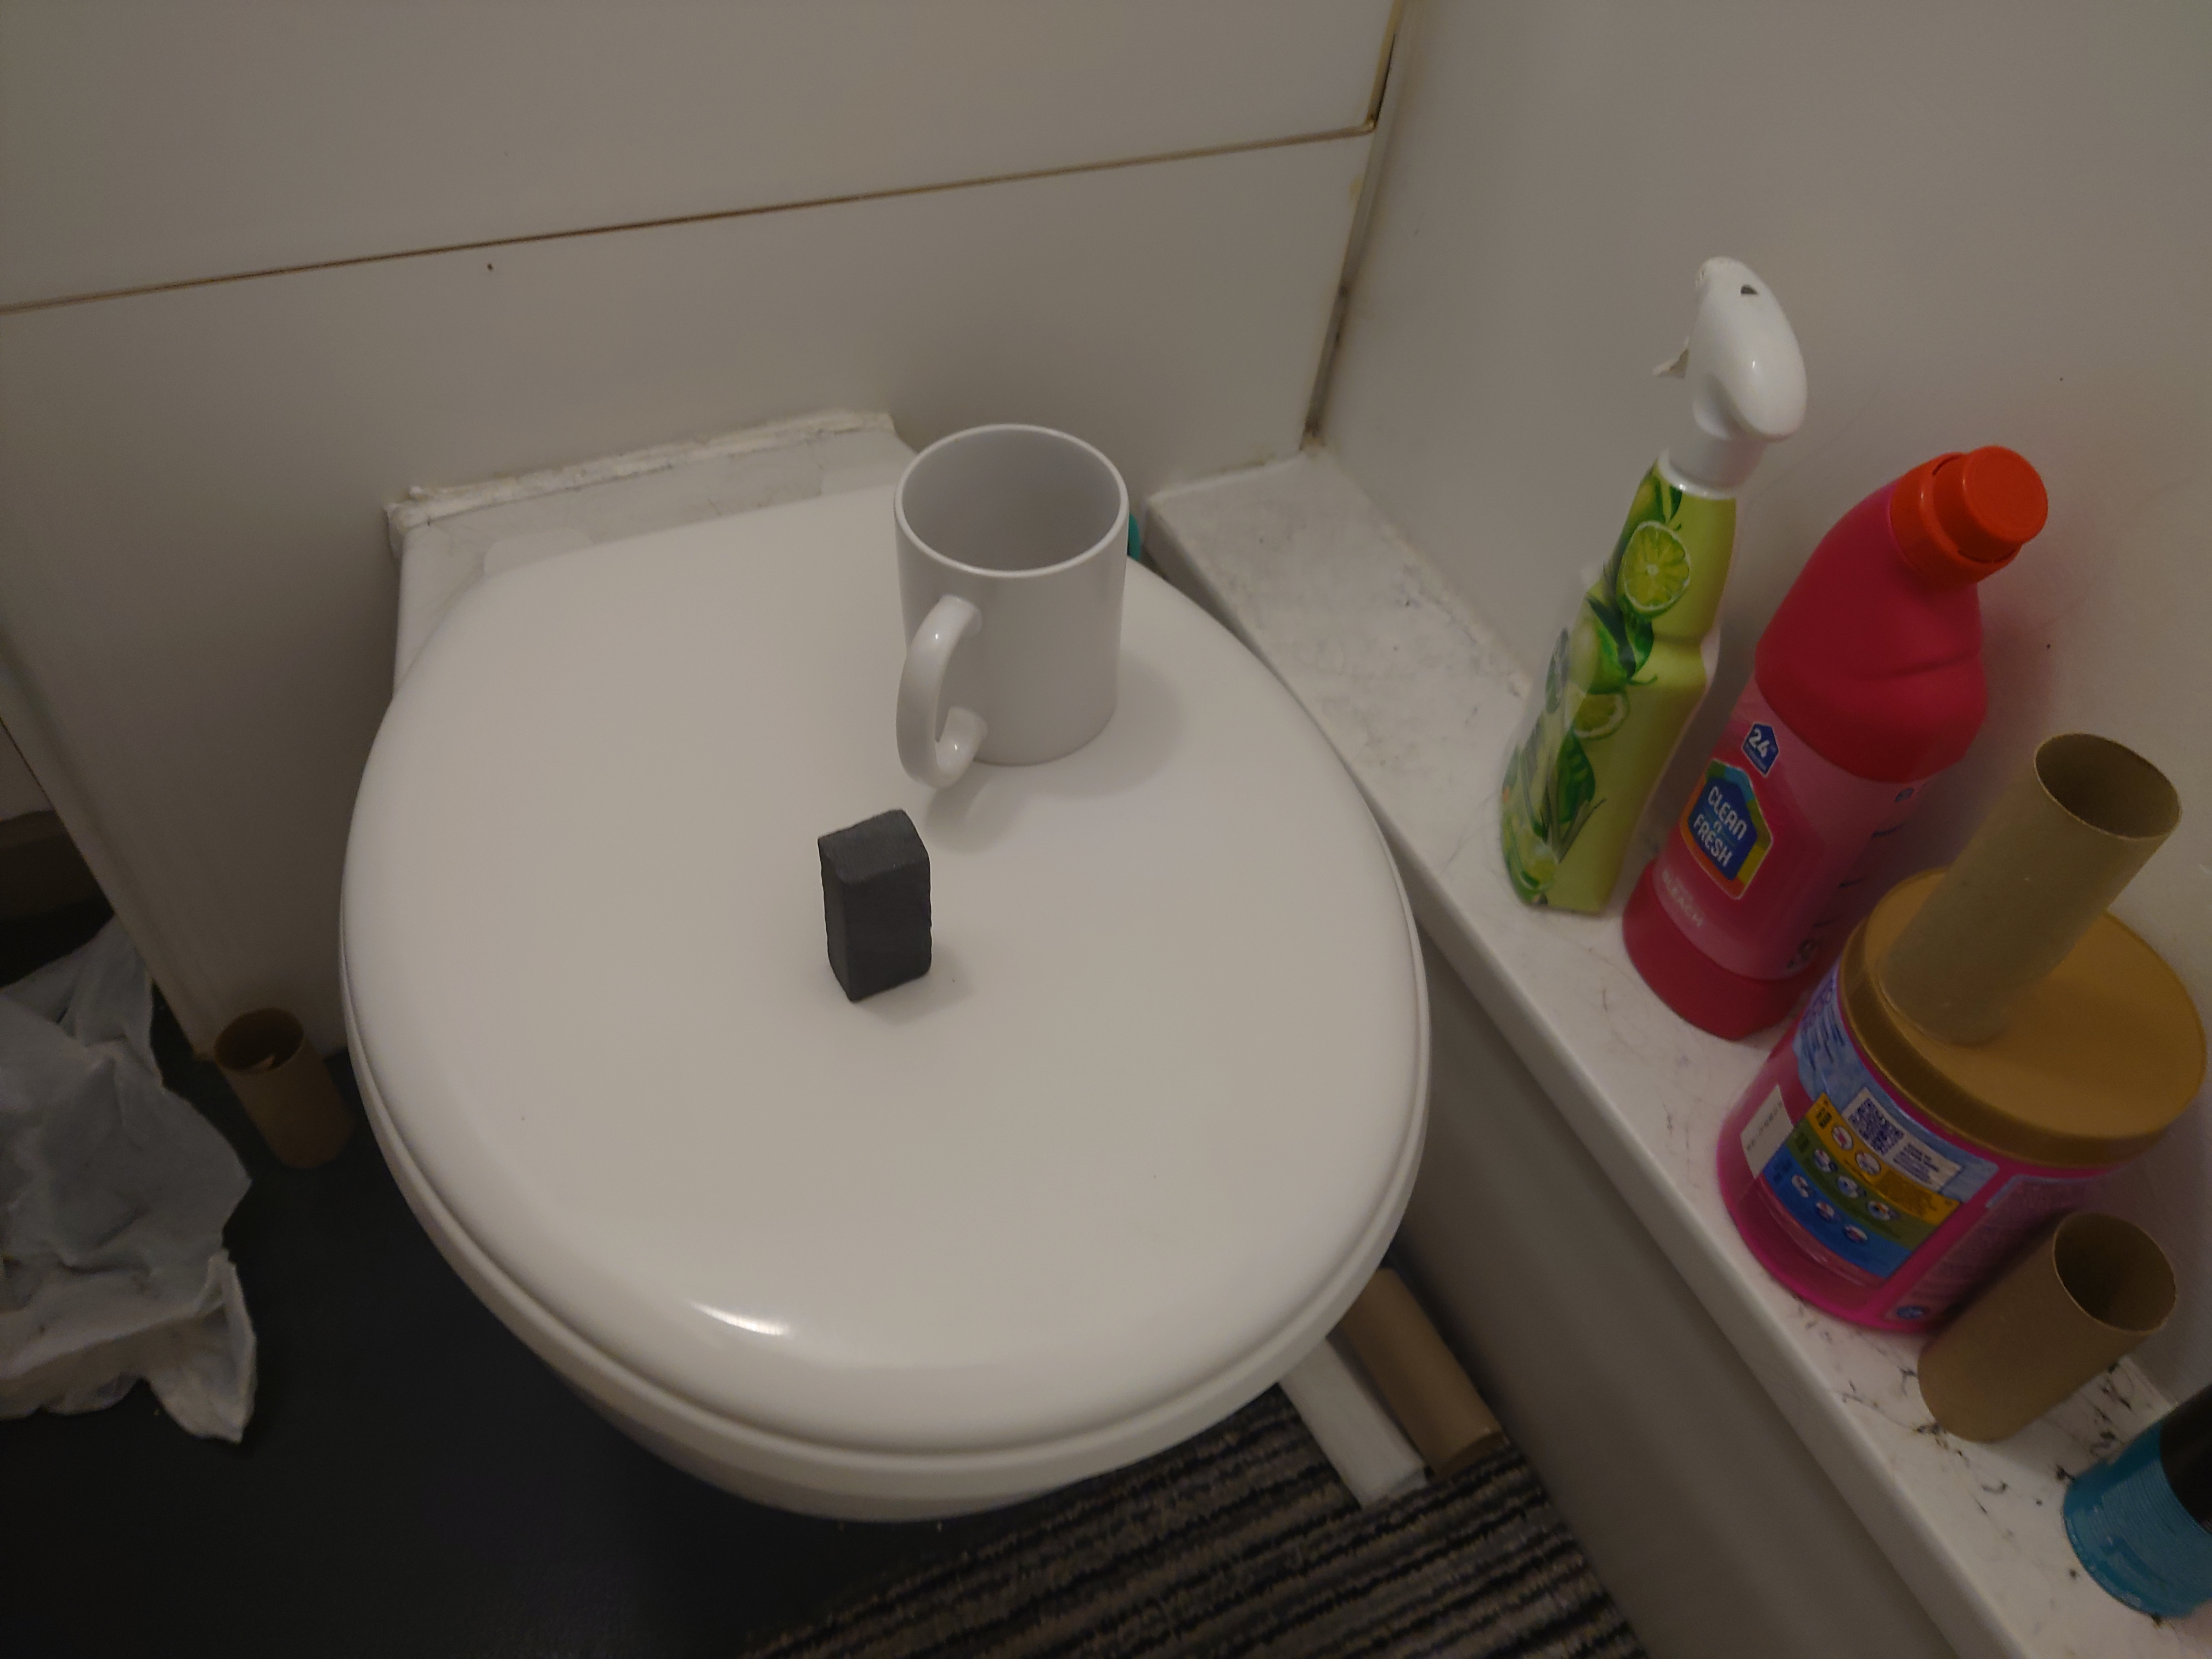cup: (881, 418, 1129, 805)
target: (810, 810, 941, 1007)
